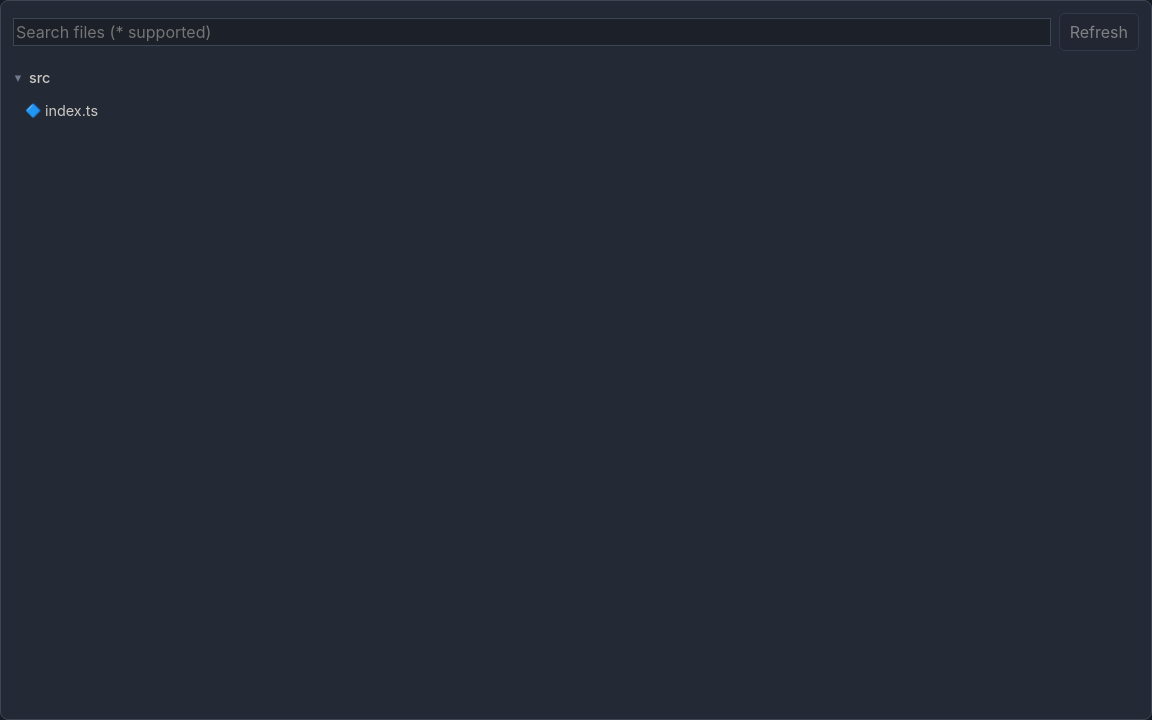
Scenario: FileTreePanel CRUD context menu › shows inline input when New File here is clicked from file context menu
This screenshot has width=1152, height=720.
Right-click the button "🔷 index.ts" at (72,110), box [25,97,1139,124]
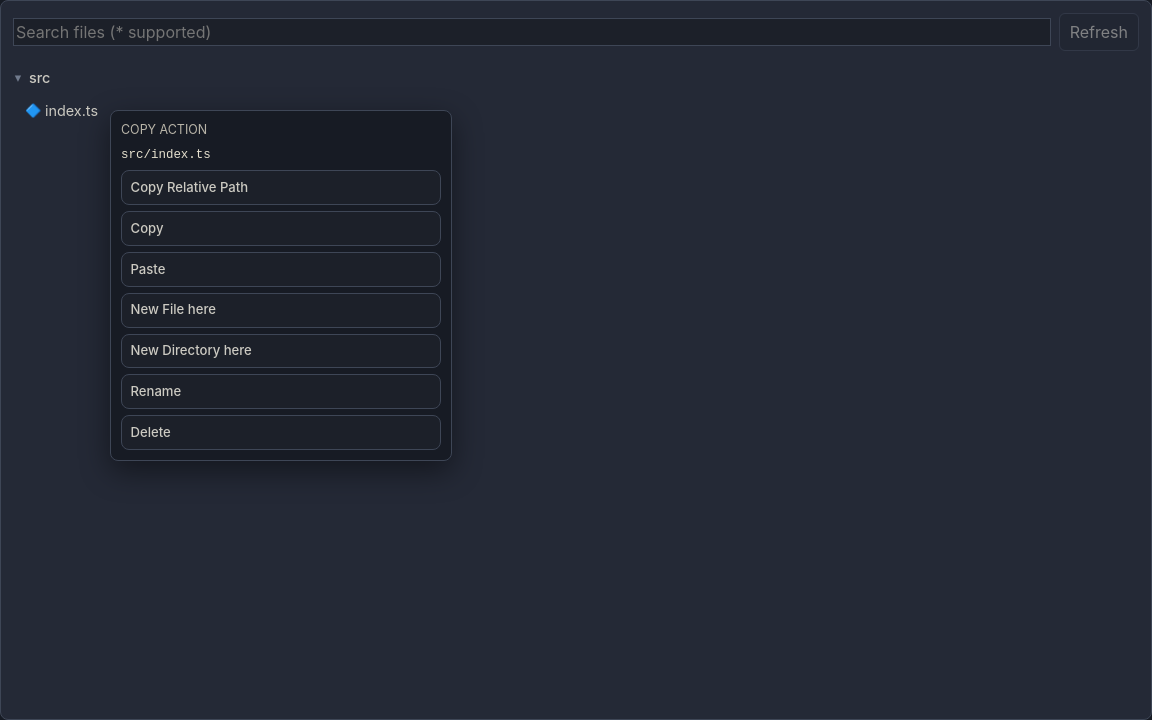
Click the button "New File here" at (173,309), box [121,293,441,328]
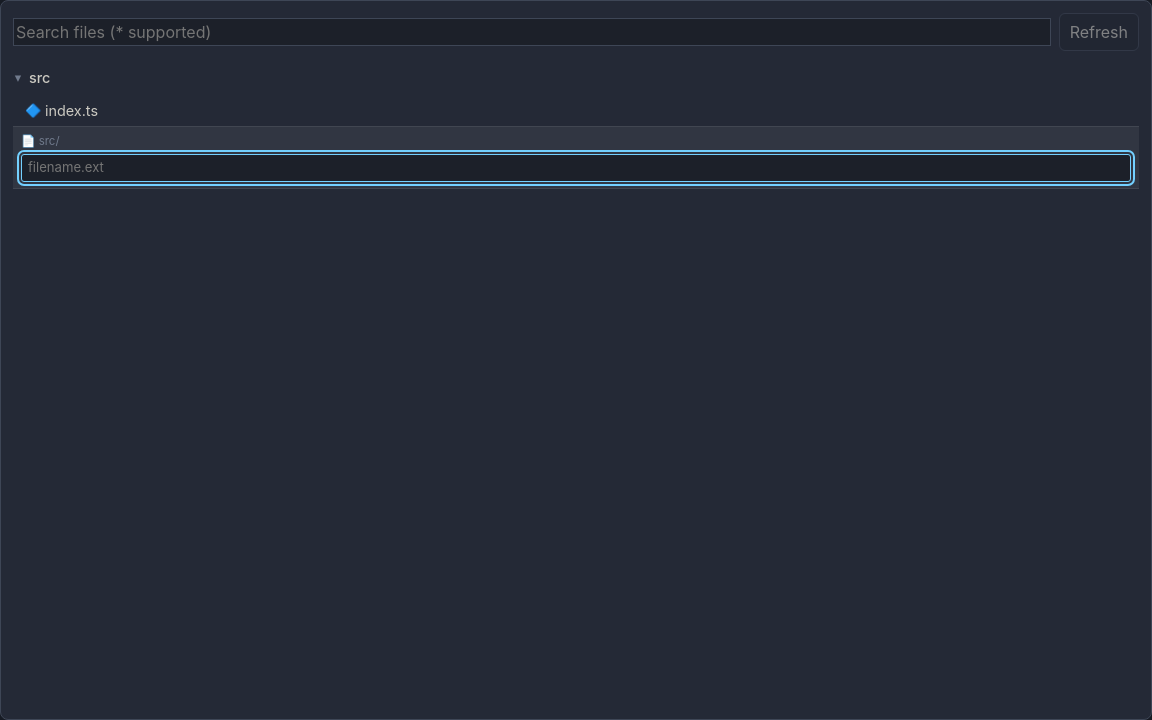
Result: the field with test id "tree-inline-input" is shown at [21,154,1131,182]
